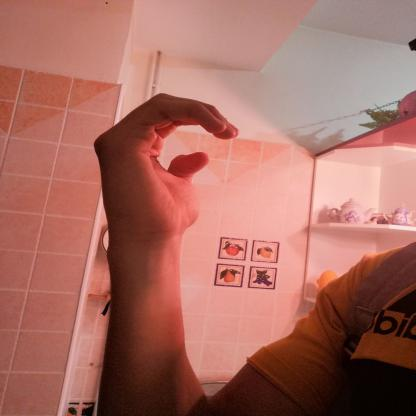JEEM: (77, 82, 252, 248)
